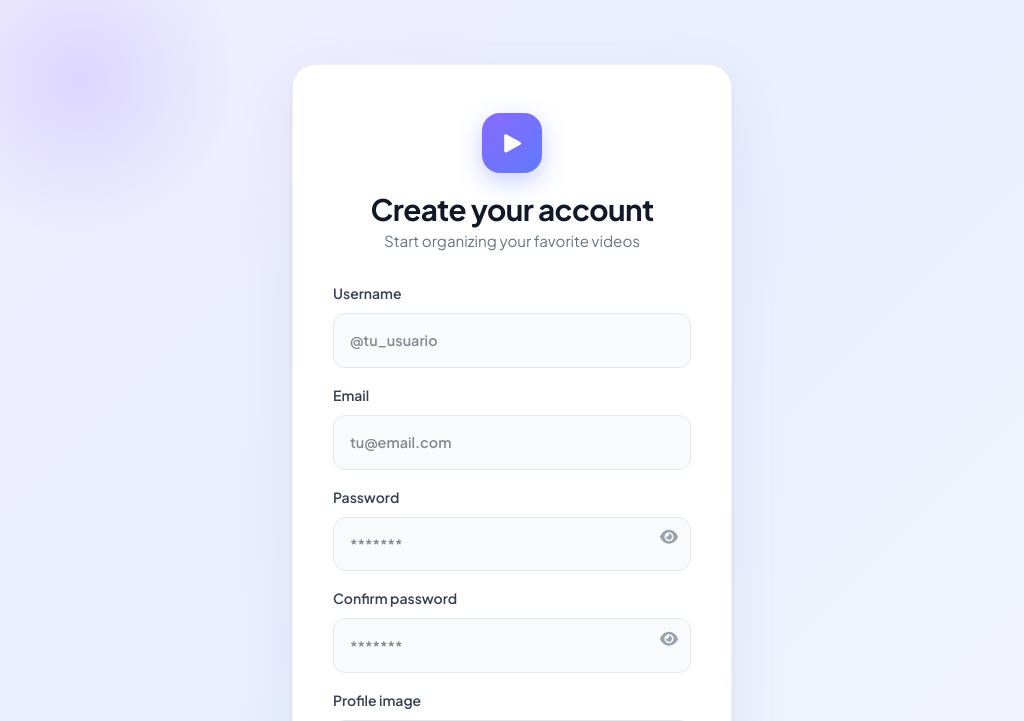
Scenario: Register component › Username validation › Username must be at least 5 characters long
Type "alex" into the field labelled "Username" at (512, 340), box x1=333 y1=313 x2=691 y2=368
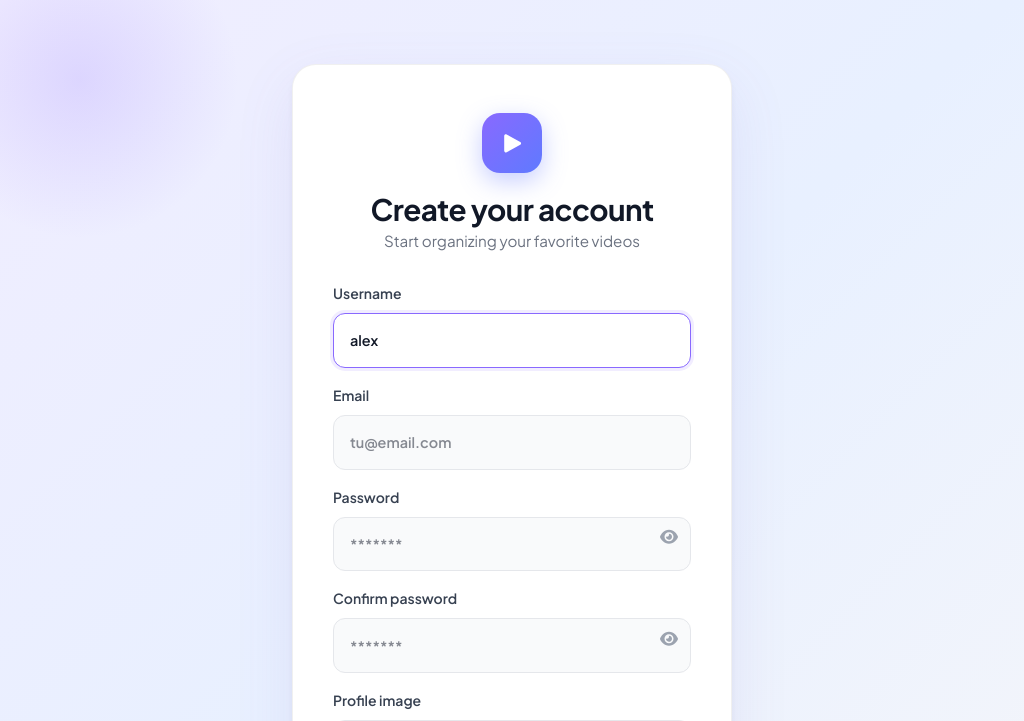
Leave the field labelled "Username", box x1=333 y1=313 x2=691 y2=368
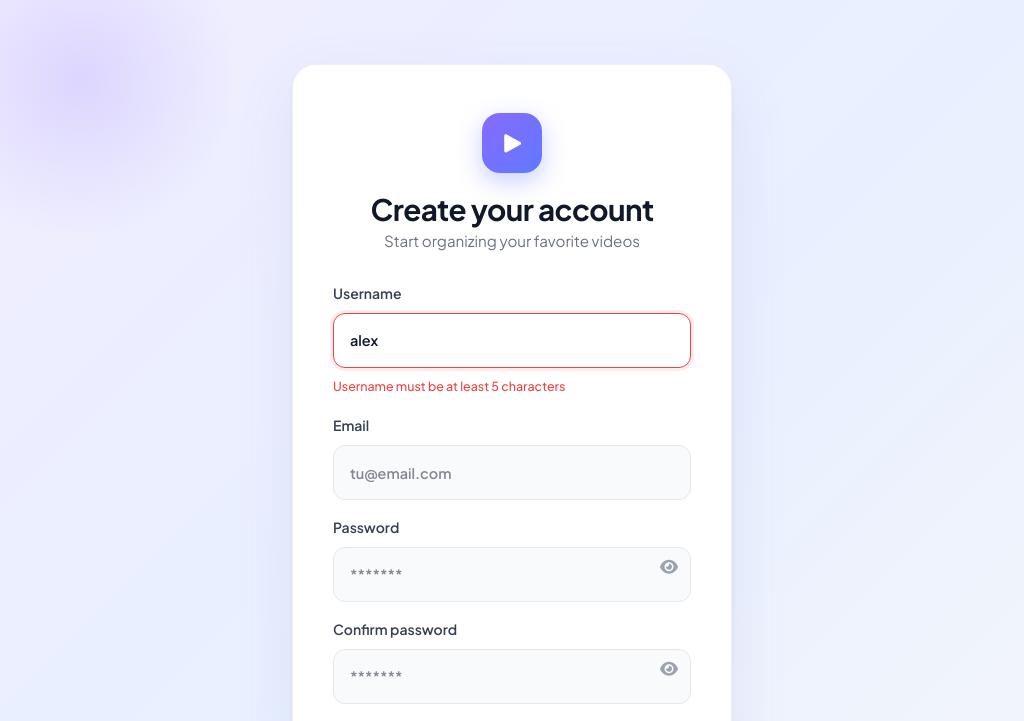
Now the text "Username must be at least 5 characters" is shown, box x1=333 y1=378 x2=565 y2=394
